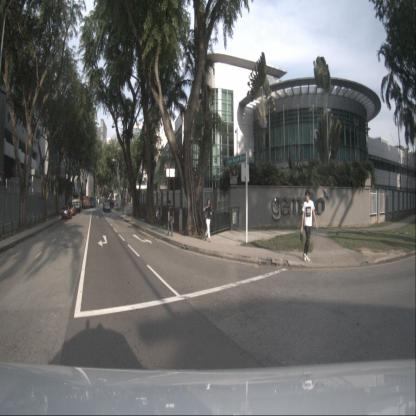human-pedestrian-adult: (300, 189, 318, 263), (202, 198, 212, 242), (166, 199, 175, 237), (155, 198, 163, 230)
vehicle-car: (61, 206, 72, 220), (68, 204, 76, 215), (103, 202, 109, 212), (105, 203, 110, 213)
vehicle-truck: (72, 194, 82, 212), (83, 196, 90, 209), (89, 197, 96, 208)
